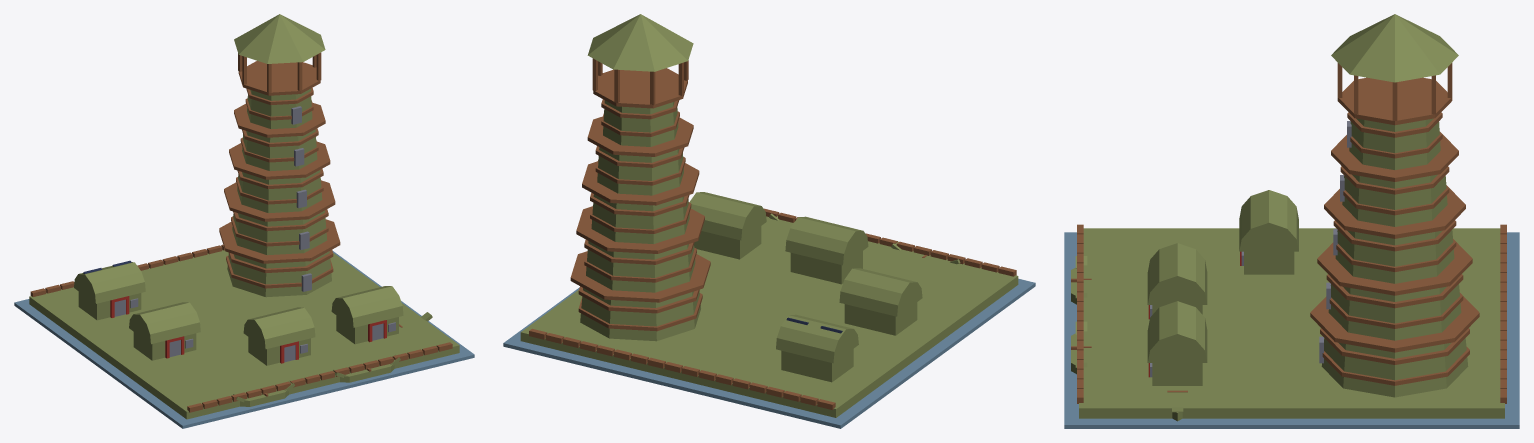
File: house-2x2-5f-totora-a-solar.glb
3 views of the same model, side by side, from view 1: azimuth 30°, elevation 25°; view 2: azimuth 150°, elevation 25°; view 3: azimuth 270°, elevation 25° (orthographic). The views are drawn at different scales.
Parts seen in each view (by area): view 1: house-2x2-5f-totora-a-solar; view 2: house-2x2-5f-totora-a-solar; view 3: house-2x2-5f-totora-a-solar.
Part boxes in pixels (x1,y1,x2,y2): house-2x2-5f-totora-a-solar: (14, 14, 474, 428); house-2x2-5f-totora-a-solar: (503, 14, 1035, 428); house-2x2-5f-totora-a-solar: (1064, 14, 1519, 428).
Bounding box in the file's own units: 1.99 × 1.77 × 1.99.
Materials: 1 (1 with a texture image).
